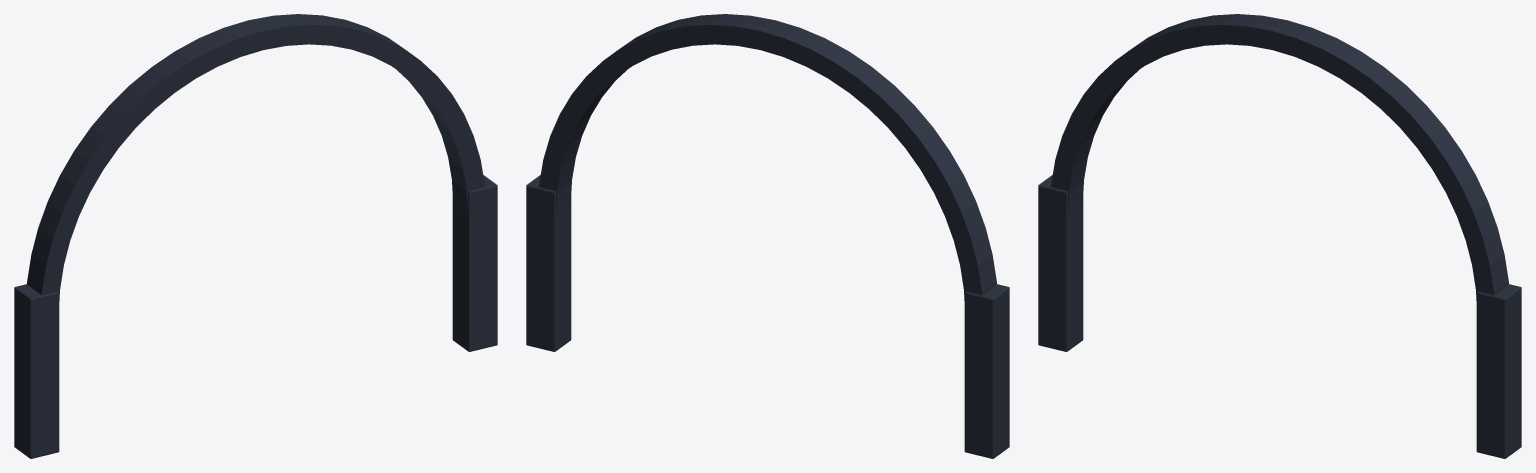
File: EntryGate.fbx
3 views of the same model, side by side, from view 1: azimuth 30°, elevation 25°; view 2: azimuth 150°, elevation 25°; view 3: azimuth 330°, elevation 25° (orthographic).
Parts seen in each view (by area): view 1: EntryPier-1.001; view 2: EntryPier-1.001; view 3: EntryPier-1.001.
Boxes of the visible parts, bbox=[...] form: EntryPier-1.001: bbox=[14, 14, 497, 458]; EntryPier-1.001: bbox=[526, 14, 1009, 458]; EntryPier-1.001: bbox=[1038, 14, 1521, 458].
Bounding box in the file's own units: 12800 × 9700 × 800.
